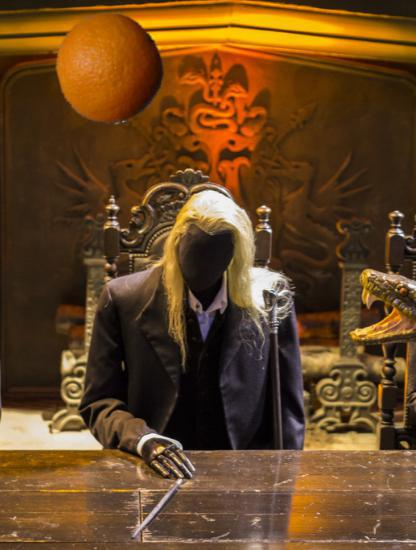Orange: (55, 13, 166, 124)
